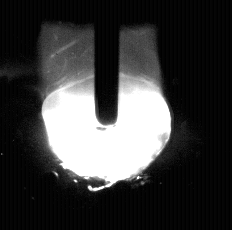arame: (96, 0, 120, 131)
poca: (45, 0, 172, 230)
